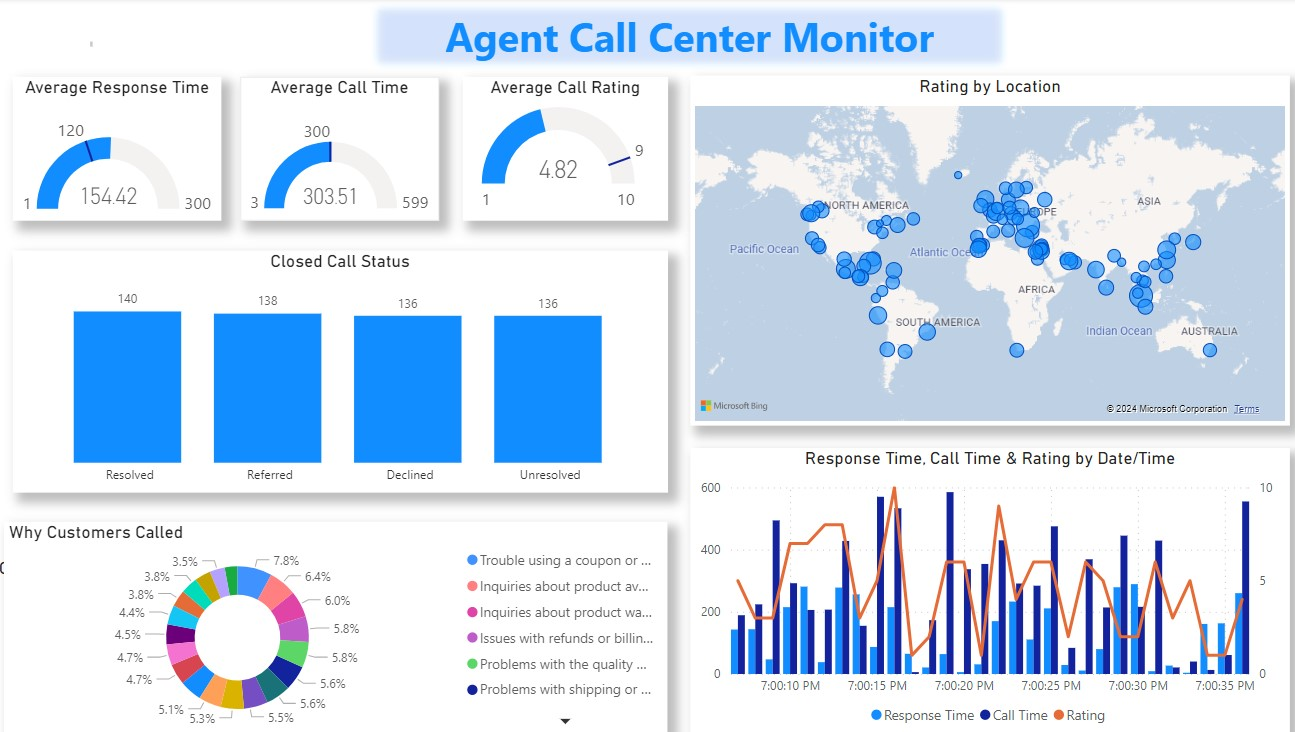

The page's visual inventory and layout, read from the dashboard file:
{"tool":"powerbi","page":{"name":"Page 1","canvas":[1280,720],"ordinal":0},"visuals":[{"type":"map","title":"Rating by Location","fields":{"Category":["call_center locations.location"],"Size":["Avg(call_center calls.rating)"]},"box":[680.9,75.8,586.8,342.3],"z":0},{"type":"lineClusteredColumnComboChart","title":"Response Time, Call Time & Rating by Date/Time","fields":{"Y2":["Sum(call_center calls.rating)"],"Category":["call_center calls.date"],"Y":["Sum(call_center calls.response_time)","Sum(call_center calls.call_time)"]},"box":[680.9,440.1,586.8,279.9],"z":1000},{"type":"clusteredColumnChart","title":"Closed Call Status","fields":{"Category":["call_center status.title"],"Y":["CountNonNull(call_center calls.company_id)"]},"box":[18.3,246.9,640.5,237.1],"z":2000},{"type":"donutChart","fields":{"Category":["call_center issues.issue"],"Y":["CountNonNull(call_center calls.company_id)"]},"box":[0,547.6,599.1,172.2],"z":3000},{"type":"donutChart","title":"Why Customers Called","fields":{"Category":["call_center issues.issue"],"Y":["CountNonNull(call_center calls.company_id)"]},"box":[9.8,512.2,649.1,207.8],"z":4000},{"type":"gauge","title":"Average Call Rating","fields":{"Y":["Avg(call_center calls.rating)"],"MinValue":["Min(call_center calls.rating)"],"MaxValue":["Max(call_center calls.rating)1"],"TargetValue":["call_center calls.Target Call Rating"]},"box":[458.4,77,200.5,140.6],"z":5000},{"type":"gauge","title":"Average Response Time","fields":{"Y":["Avg(call_center calls.response_time)"],"MinValue":["Min(call_center calls.response_time)"],"MaxValue":["Max(call_center calls.response_time)"],"TargetValue":["call_center calls.Target Response Time"]},"box":[18.3,77,204.1,140.6],"z":6000},{"type":"gauge","title":"Average Call Time","fields":{"Y":["Avg(call_center calls.call_time)"],"MinValue":["Min(call_center calls.call_time)"],"MaxValue":["Max(call_center calls.call_time)"],"TargetValue":["call_center calls.Target Call Time"]},"box":[240.8,77,194.4,140.6],"z":7000},{"type":"textbox","box":[89.2,37.9,12.2,14.7],"z":8000},{"type":"shape","box":[367.9,3.7,624.7,67.2],"z":9000}]}

Visuals, with their boxes in screenshot pixels (x1, y1, x2, y2), scaled from the page's 1280x720 canvas onto the 1295x732 screenshot:
"Rating by Location" map: 689/77/1283/425
"Response Time, Call Time & Rating by Date/Time" lineClusteredColumnComboChart: 689/447/1283/731
"Closed Call Status" clusteredColumnChart: 19/251/667/492
donutChart - call_center issues.issue x CountNonNull(call_center calls.company_id): 0/557/606/731
"Why Customers Called" donutChart: 10/521/667/731
"Average Call Rating" gauge: 464/78/667/221
"Average Response Time" gauge: 19/78/225/221
"Average Call Time" gauge: 244/78/440/221
textbox: 90/39/103/53
shape: 372/4/1004/72
